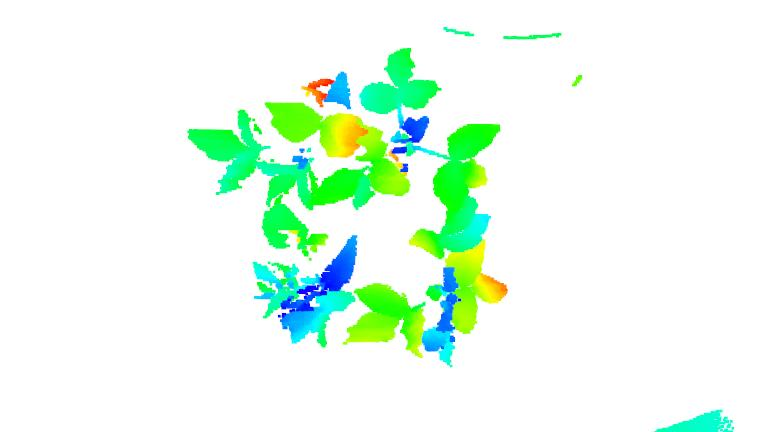mungbean: (183, 59, 368, 256), (358, 48, 512, 223), (343, 214, 510, 366), (245, 228, 366, 350)
